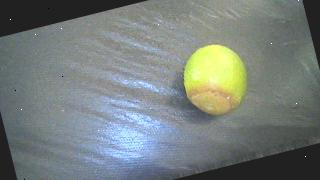DESECHO: (176, 38, 255, 122)
